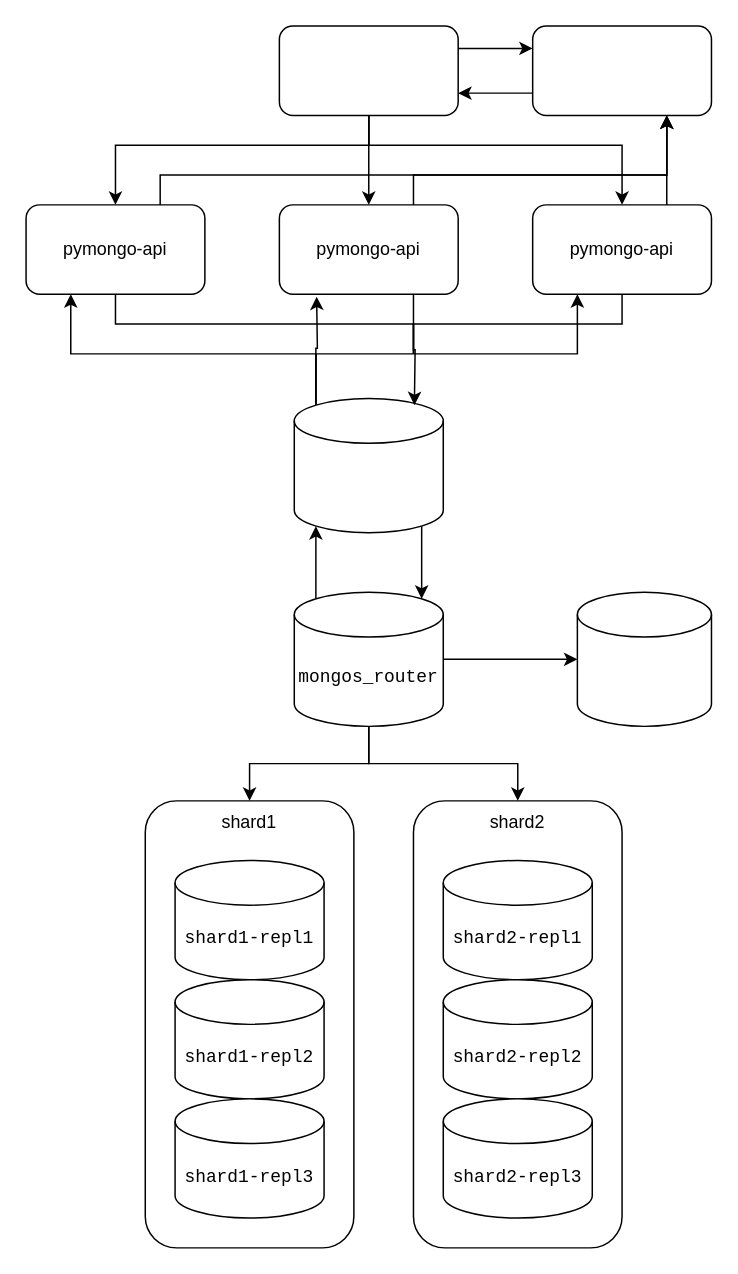
This 738x1274 diagram has some shape labels left out. Here are the shapes that lost their labels. From the top down, the centre of each, then its label:
[368,70]: Gateway
[621,70]: Consul Service Discovery
[368,465]: redis
[643,658]: configSrv
